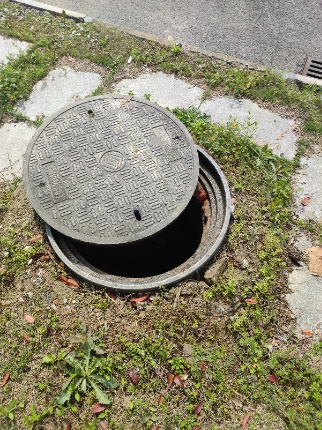uncovered: (21, 95, 230, 290)
